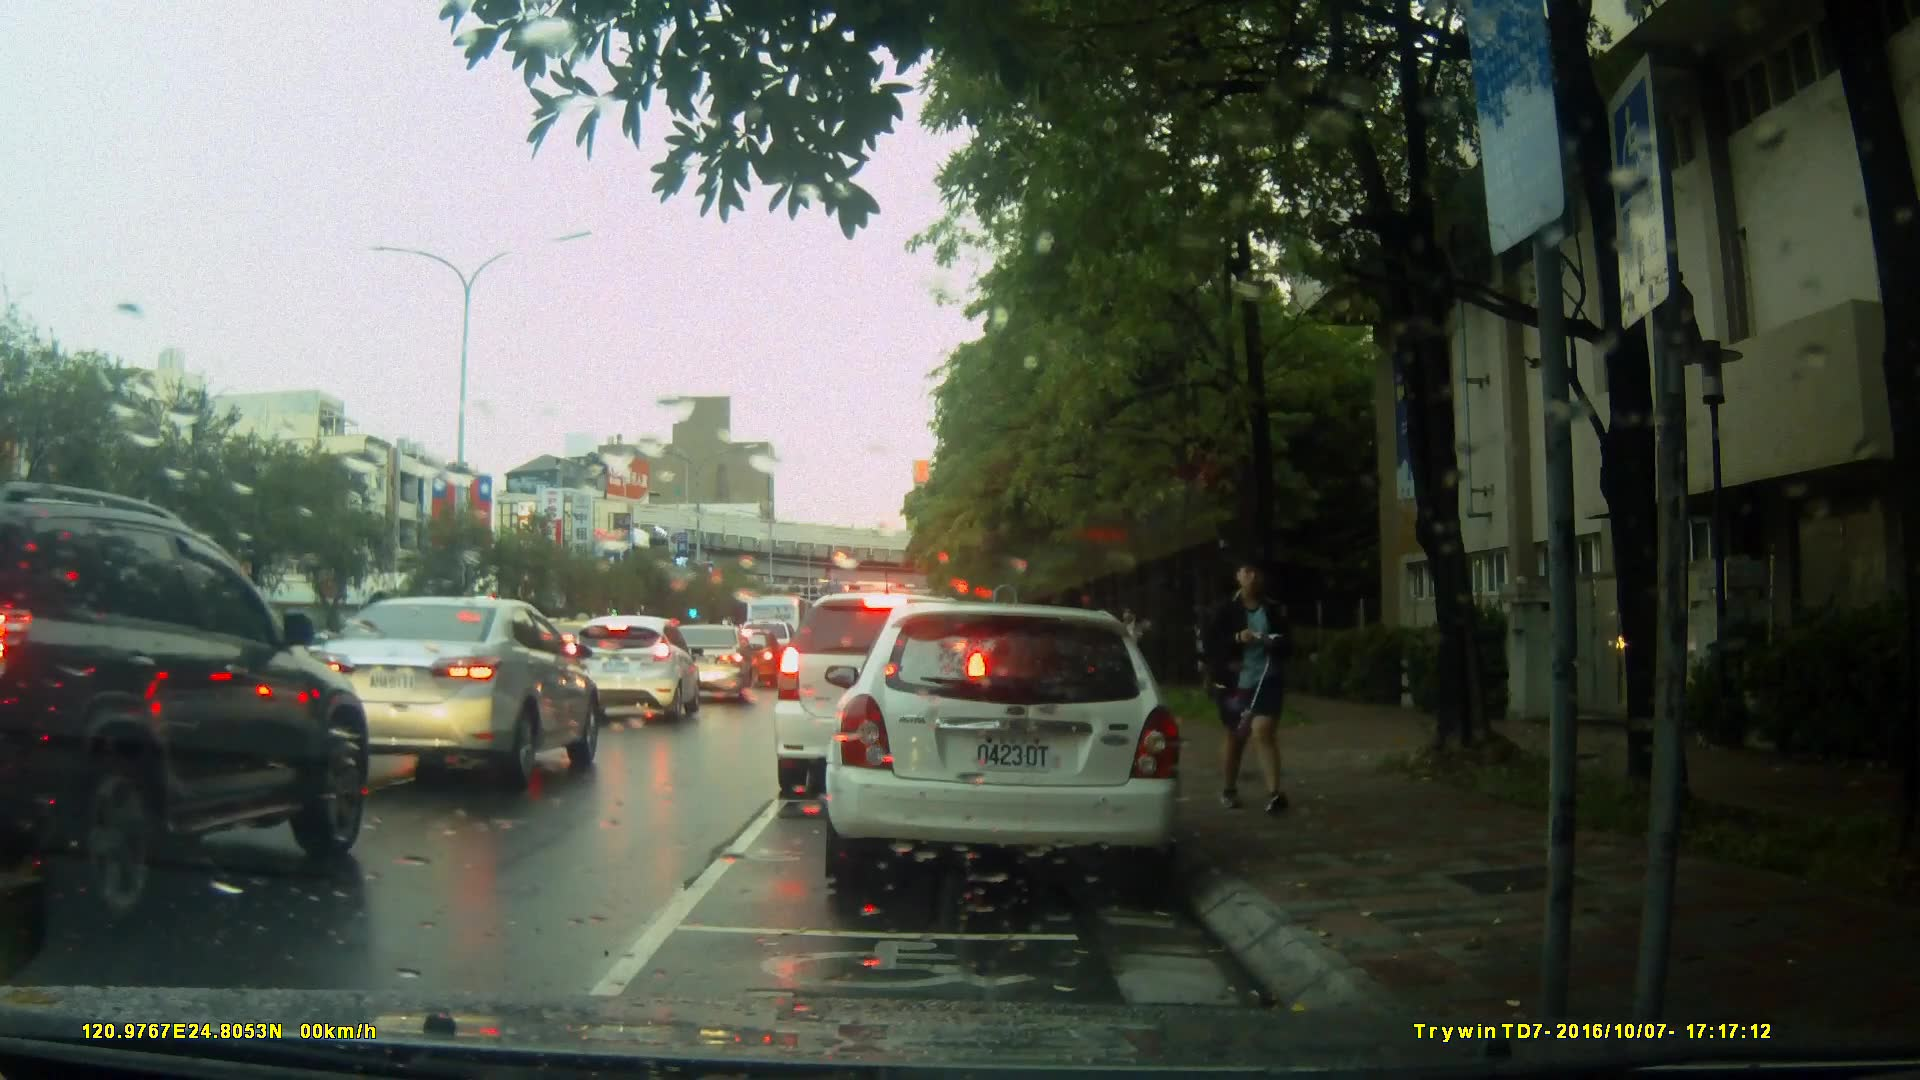pedestrian: (1188, 558, 1313, 823), (1108, 588, 1142, 730)
vehicle: (1, 477, 374, 943), (815, 593, 1198, 891), (308, 596, 603, 792), (770, 590, 995, 802), (561, 612, 702, 725), (666, 624, 755, 701)
